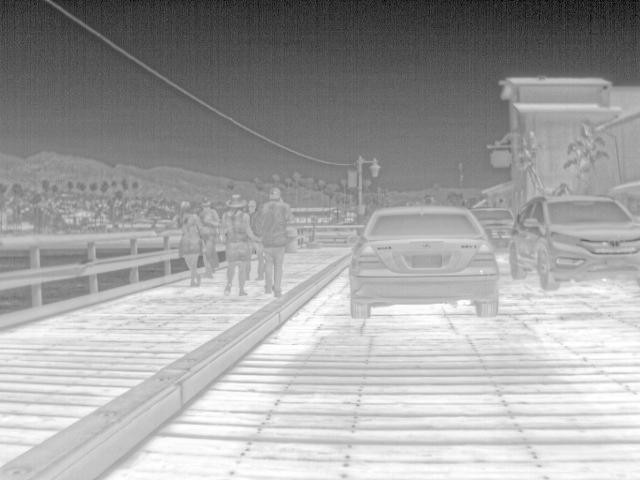car: (347, 203, 503, 318), (508, 194, 640, 289), (470, 205, 517, 255)
person: (252, 188, 294, 296), (154, 201, 203, 285), (222, 195, 257, 295), (197, 204, 221, 278)
